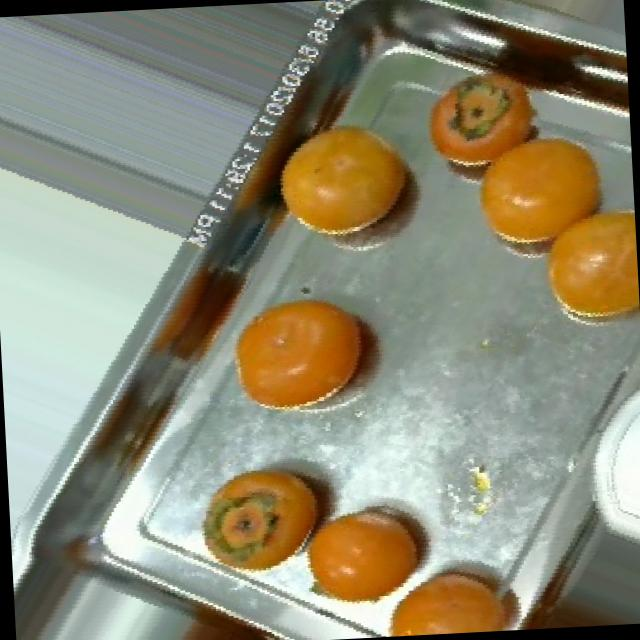Fruit: (252, 95, 449, 285), (198, 266, 412, 438), (168, 446, 362, 602), (451, 112, 630, 271), (277, 482, 460, 626), (517, 185, 640, 347), (360, 546, 552, 638), (495, 573, 640, 631)
